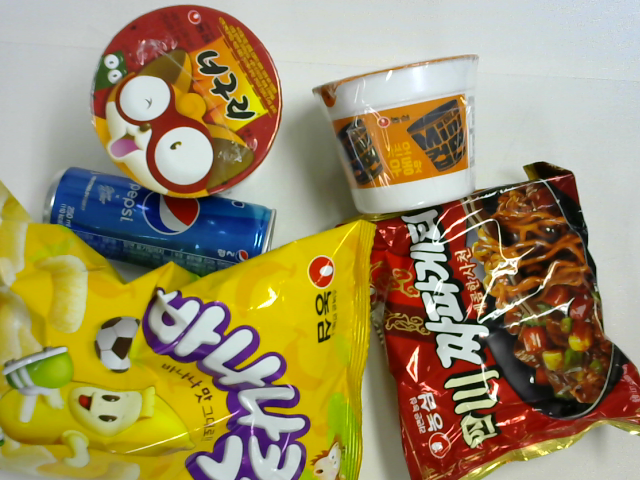Banana_Kick: (1, 181, 375, 480)
Pepsi_Cola_Can_250ml: (37, 166, 278, 273)
Raccoon: (87, 6, 285, 197)
Sichuan_Chapaghetti: (336, 162, 640, 478)
Udongmini: (308, 53, 479, 214)
